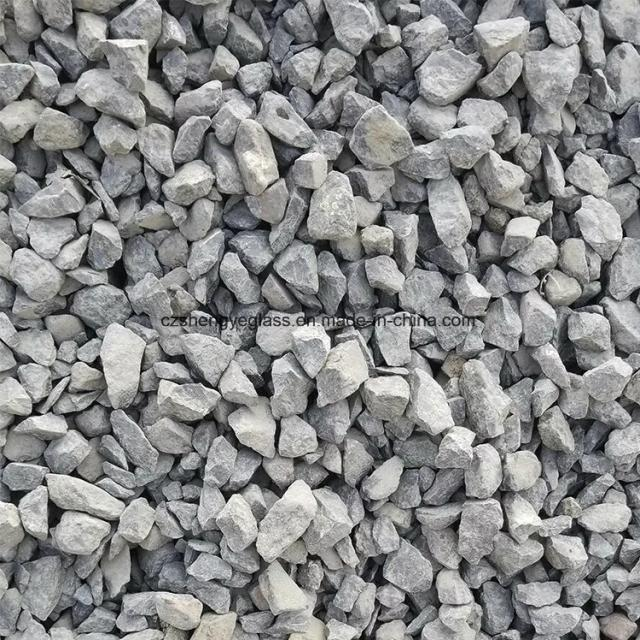Pecahan Agregat: (240, 306, 307, 420), (233, 113, 310, 200), (46, 466, 136, 537), (413, 502, 510, 566), (344, 107, 426, 180), (514, 41, 585, 125), (168, 63, 254, 131), (290, 323, 373, 393), (75, 62, 158, 131), (95, 318, 157, 410), (313, 172, 387, 248), (570, 197, 632, 282), (96, 29, 171, 99), (483, 151, 548, 228), (450, 355, 504, 446), (187, 2, 291, 48), (508, 225, 575, 295), (18, 178, 103, 231), (328, 6, 392, 72), (154, 376, 224, 436), (116, 219, 172, 294), (250, 487, 325, 542), (429, 176, 483, 250), (415, 368, 468, 443), (420, 222, 484, 284), (13, 349, 71, 415), (369, 313, 440, 365), (170, 106, 225, 172), (205, 493, 268, 550), (324, 563, 374, 632), (286, 49, 351, 101), (63, 507, 116, 570), (449, 442, 504, 502), (328, 494, 381, 555), (38, 109, 97, 163), (16, 248, 70, 307), (367, 387, 427, 440), (268, 209, 325, 264), (565, 150, 619, 208), (32, 418, 86, 475), (249, 568, 302, 626), (362, 262, 426, 309), (451, 96, 516, 142), (513, 491, 608, 522), (411, 46, 476, 91), (168, 312, 218, 370), (229, 365, 283, 418), (374, 498, 429, 550), (97, 140, 139, 208), (276, 415, 330, 467), (327, 270, 382, 321), (468, 58, 537, 98), (434, 306, 485, 360), (589, 165, 640, 219), (198, 443, 248, 497), (464, 16, 524, 61), (550, 530, 604, 580), (516, 376, 558, 440), (262, 91, 319, 138), (565, 58, 608, 118), (248, 431, 312, 471), (22, 567, 72, 618), (167, 160, 220, 208), (536, 340, 584, 393), (455, 279, 509, 326), (538, 535, 592, 582), (330, 576, 383, 622), (436, 126, 494, 168), (146, 581, 191, 635), (186, 216, 236, 262), (522, 600, 588, 634), (475, 574, 513, 633), (140, 125, 180, 180), (317, 396, 365, 441), (504, 291, 552, 336), (388, 424, 422, 486), (393, 209, 432, 263), (504, 499, 543, 550), (382, 491, 437, 527), (506, 576, 572, 606), (251, 274, 305, 309), (190, 270, 239, 308), (508, 453, 554, 492), (444, 428, 477, 481), (339, 441, 382, 481), (495, 216, 535, 259), (570, 306, 609, 350), (403, 3, 444, 44), (88, 216, 120, 267), (3, 60, 40, 104), (544, 3, 585, 42), (376, 557, 412, 600), (580, 443, 621, 480), (431, 573, 467, 613), (598, 403, 640, 436), (537, 155, 574, 192), (598, 26, 634, 64), (586, 365, 626, 398), (543, 4, 575, 45), (20, 486, 51, 527), (584, 578, 626, 608), (227, 199, 266, 231), (568, 443, 609, 473), (198, 576, 222, 622), (533, 103, 559, 127), (609, 305, 634, 326)
